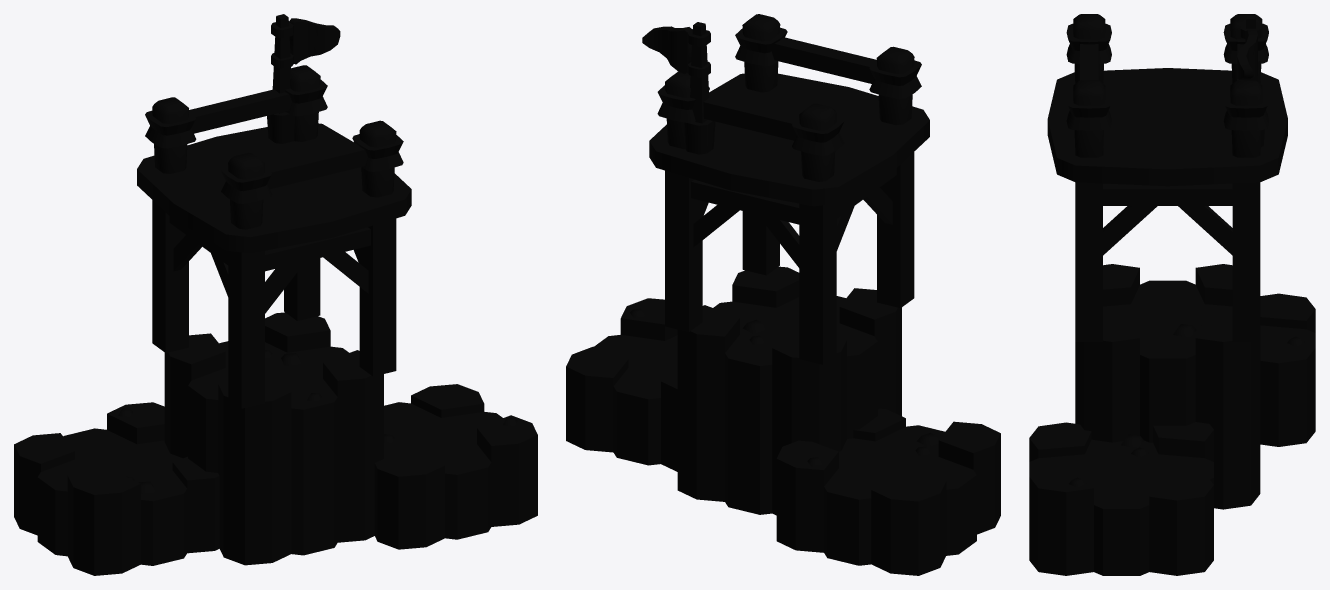
The model's file is lookout.glb.
3 views of the same model, side by side, from view 1: azimuth 30°, elevation 25°; view 2: azimuth 150°, elevation 25°; view 3: azimuth 270°, elevation 25° (orthographic). The views are drawn at different scales.
Parts seen in each view (by area): view 1: rocks-high; view 2: rocks-high; view 3: rocks-high.
Part boxes in pixels (<box>): rocks-high: <box>14,14,537,575</box>; rocks-high: <box>566,14,1000,575</box>; rocks-high: <box>1029,14,1315,575</box>.
Size of the model in its own units: 2.65 by 2.85 by 1.55.
1 material, 1 textured.
